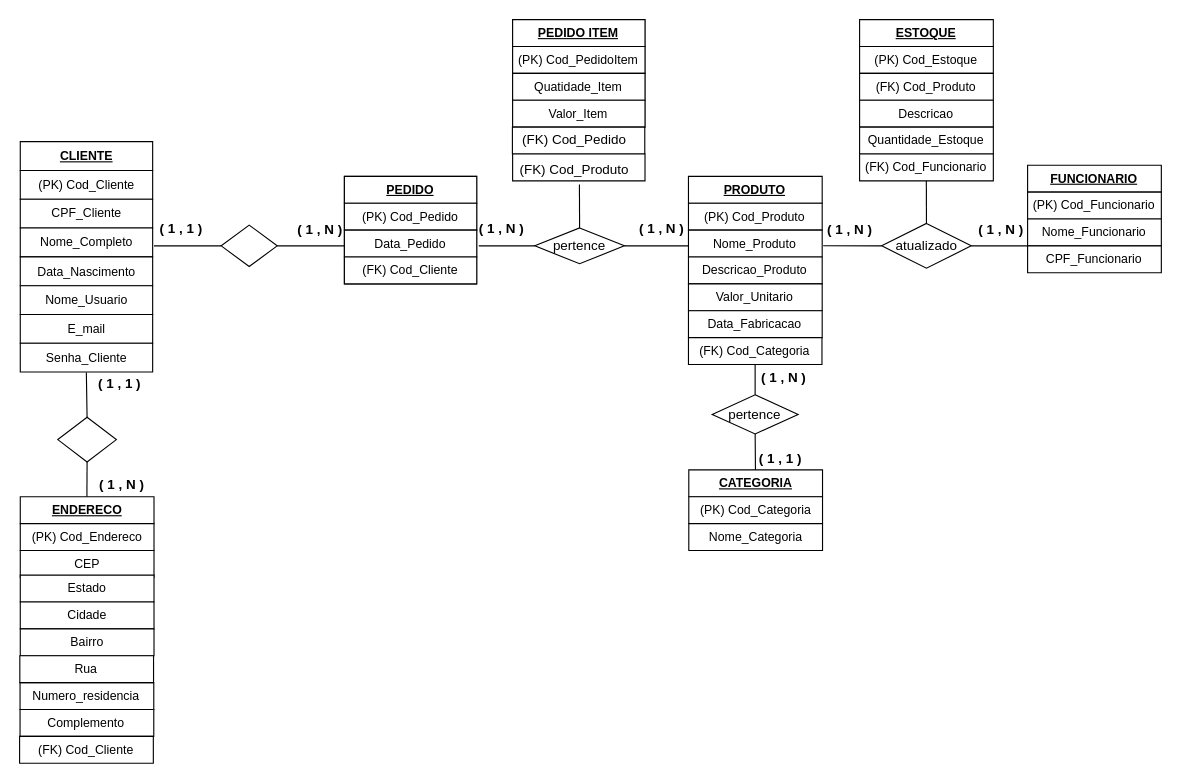
This 1182x783 diagram has some shape labels left out. Each missing label, with the box of its shape:
possui: (57, 416, 116, 462)
realiza: (220, 224, 277, 267)
